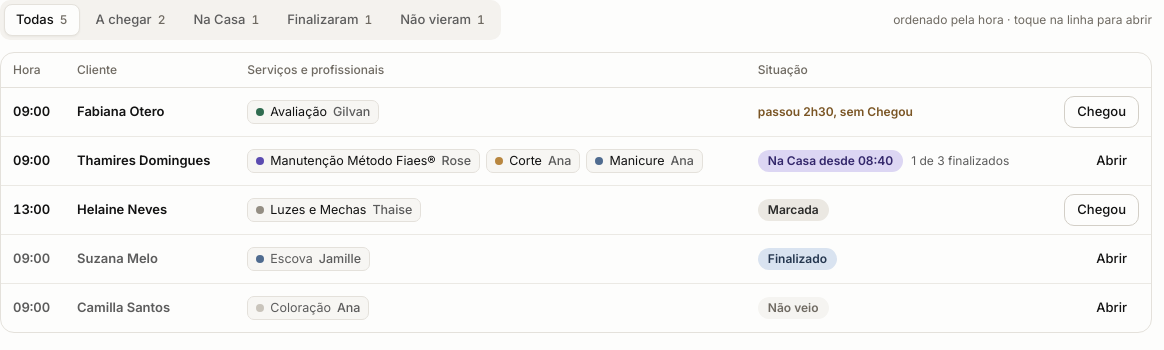
it: abas com contagem e uma linha por cliente, na ordem da hora; filtrar 'Na Casa' deixa só quem está na Casa
Expected: the tab "Todas 5" is shown, [4, 4, 80, 36]
Expected: the tab "A chegar 2" is shown, [84, 4, 177, 36]
Click the tab "Na Casa 1" at {"x": 226, "y": 20}, box [181, 4, 271, 36]
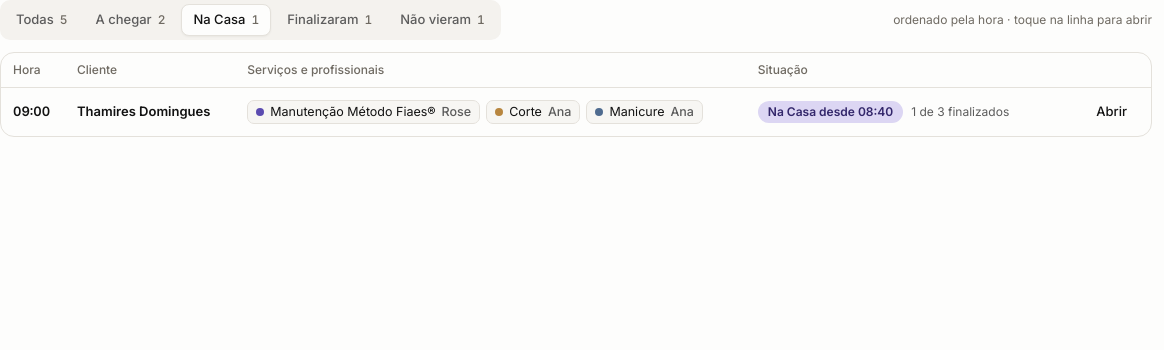
Expected: the row with test id "dia-linha" shows "Thamires Domingues", [77, 103, 210, 119]
Expected: the number of rows with test id "dia-linha" is 1, [1, 88, 1151, 136]
